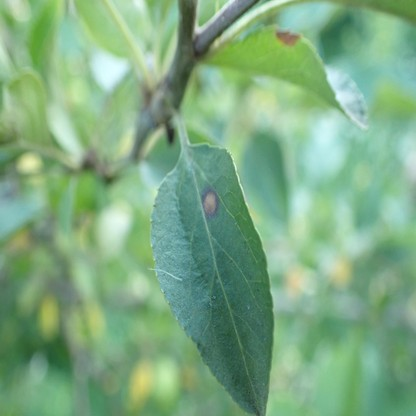frogeye_leaf_spot: (201, 189, 219, 217), (276, 28, 303, 45)
